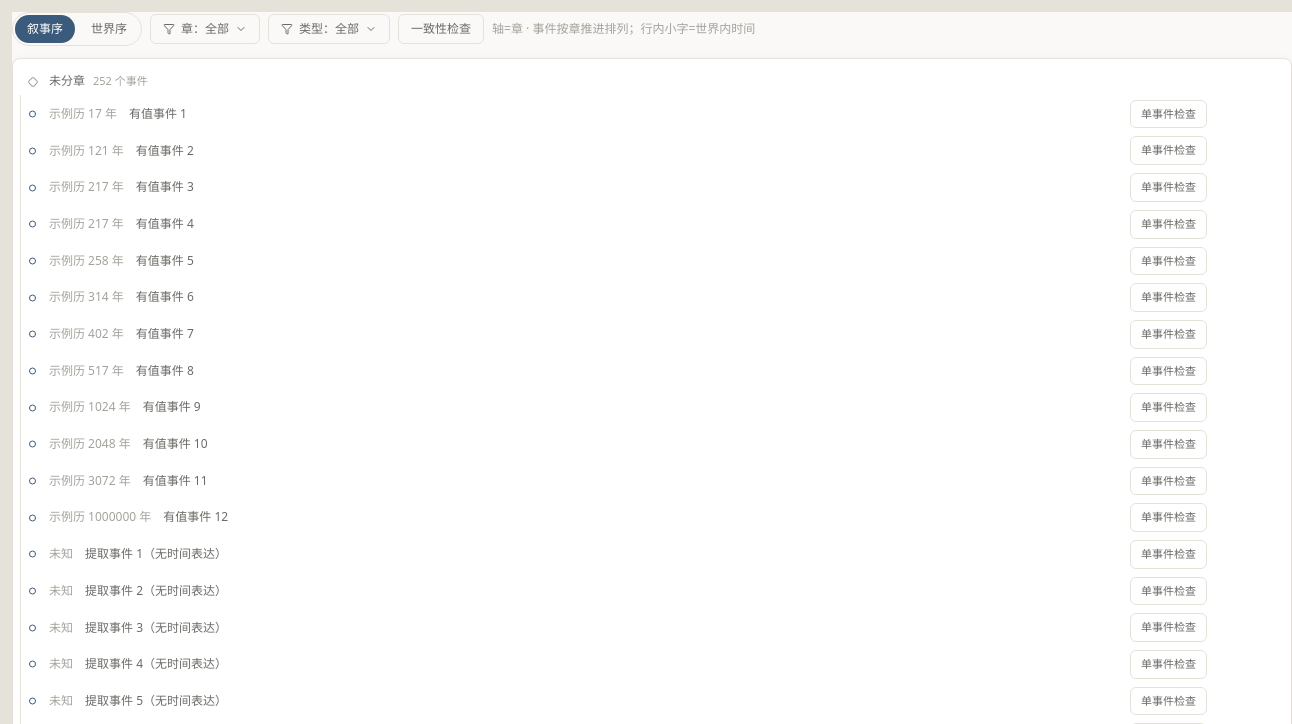
it: #1564 世界序刻度带 v2（组件级） › C1 unknown 只计一次：252 事件（12 有值 + 240 未知）画布高度受限（旧公式 = 13,924px）
Click the button with test id "tl-view-world". click: coordinates (109, 29)
box: [79, 15, 139, 43]
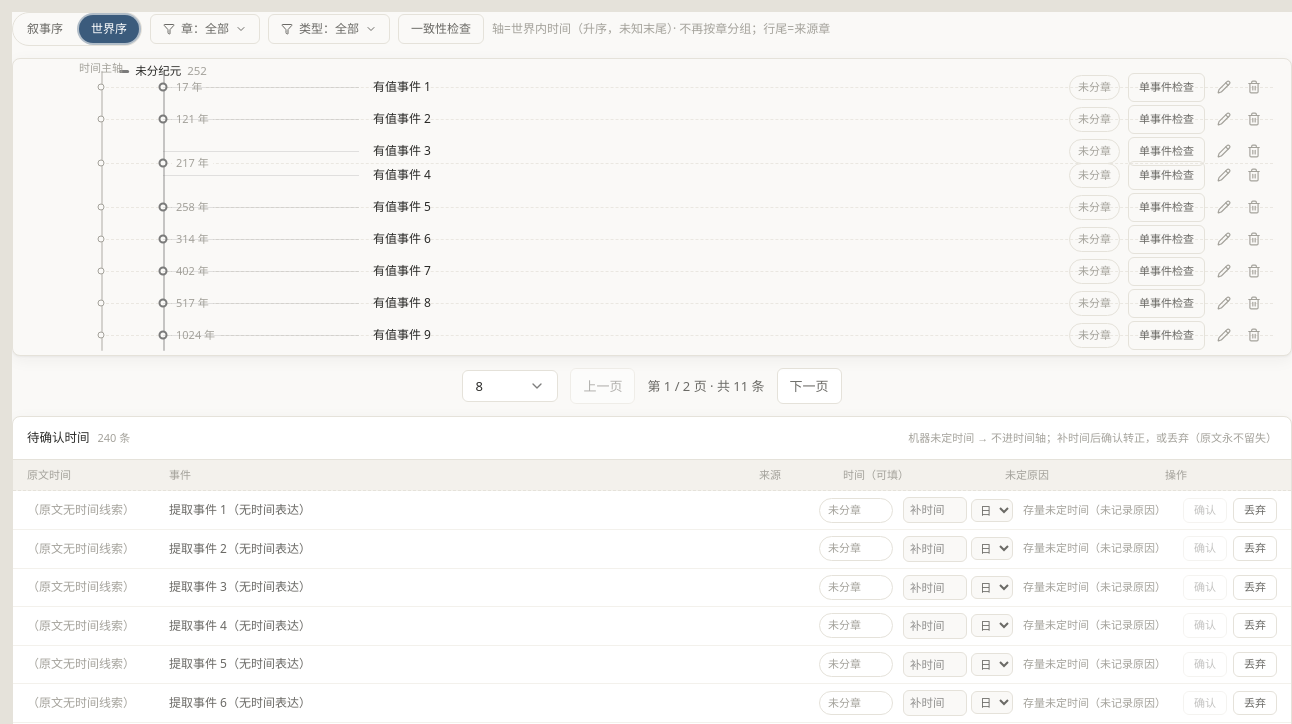
Now the text with test id "tl-pend-count" shows "240", box [98, 430, 130, 445]
